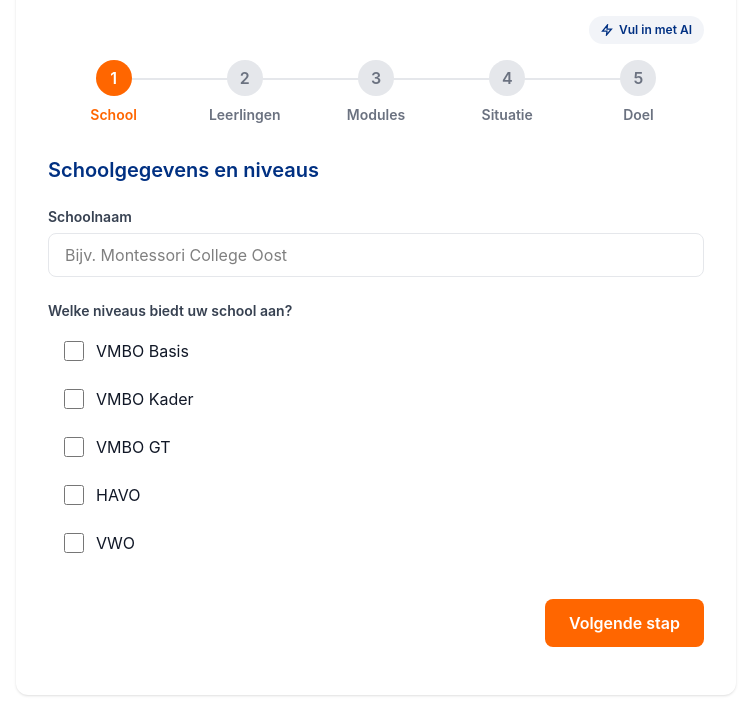
Test case: WizardShell - Step rendering and navigation › "Vorige stap" button navigates back
Note: Complete step 1
Type "Test School" into the field labelled "Schoolnaam".
click(376, 255); type("Test School")  # box [48,233,704,277]
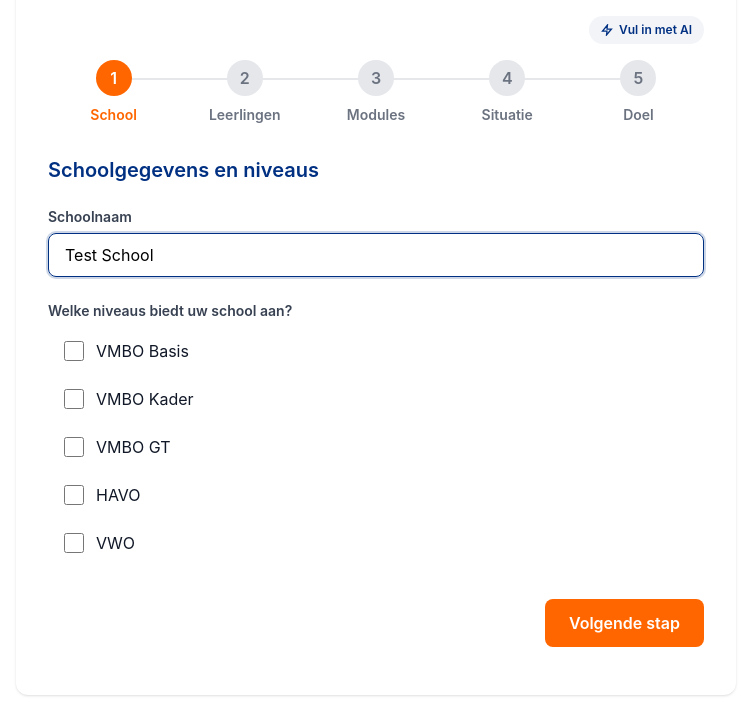
Click the checkbox labelled "HAVO".
click(74, 495)  # box [64,485,84,505]
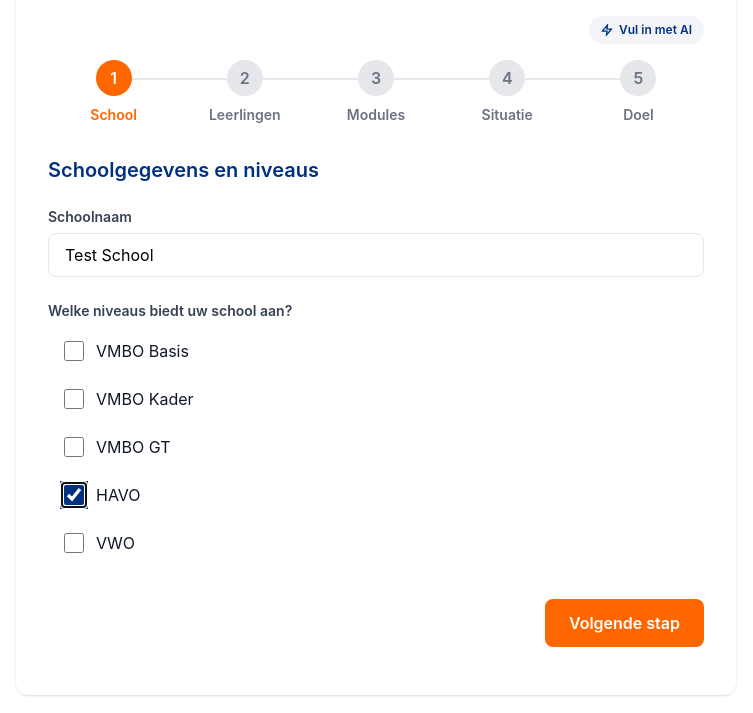
Click the button "Volgende stap".
click(624, 623)  # box [545,599,704,647]
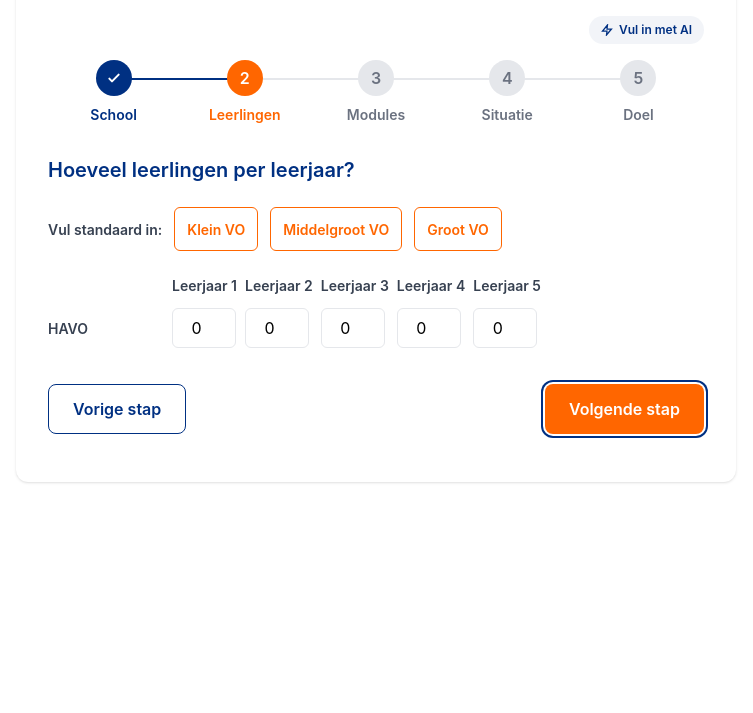
Check: the heading "Hoeveel leerlingen per leerjaar?" is shown, box [48,158,355,182]
Note:  Go back
Click the button "Vorige stap".
click(117, 409)  # box [48,384,186,434]
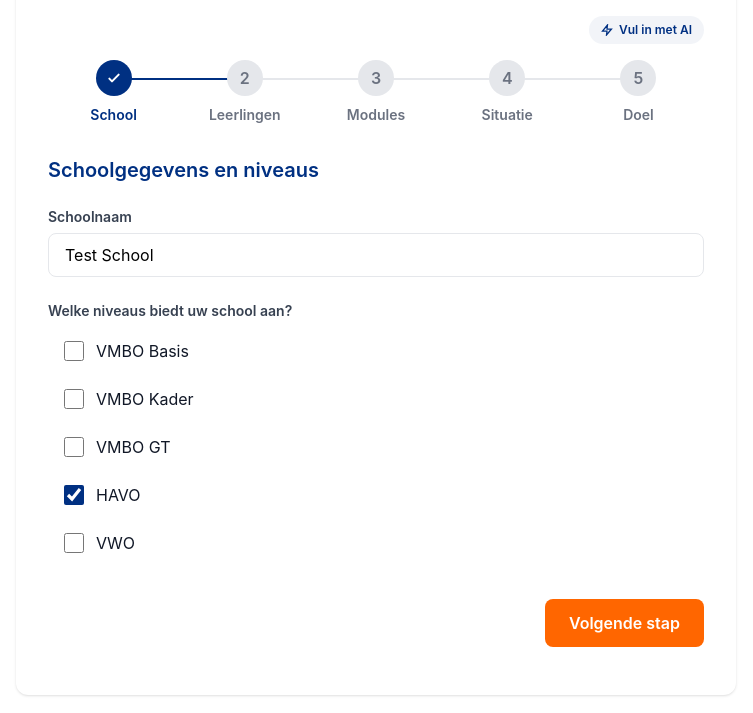
Check: the heading "Schoolgegevens en niveaus" is shown, box [48,158,319,182]
